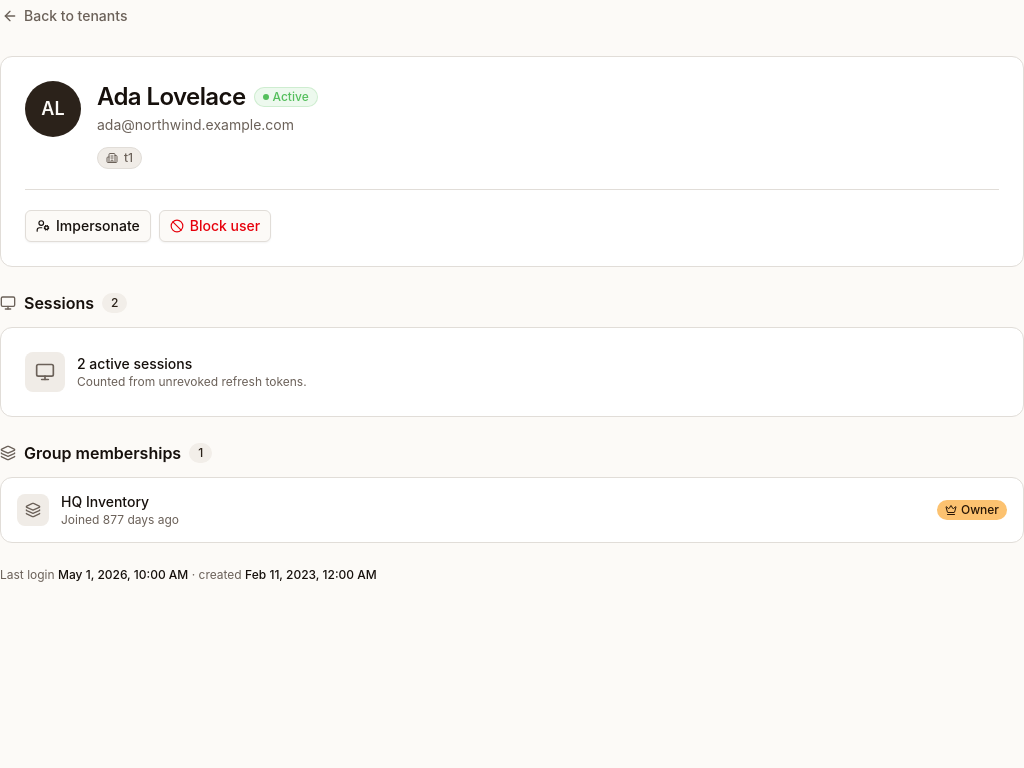
Test: AdminUserDetailPage › blocks a user: optimistic badge flip, success toast, dialog closes
Click the button with test id "admin-user-block" at [215, 226], box [159,210,271,242]
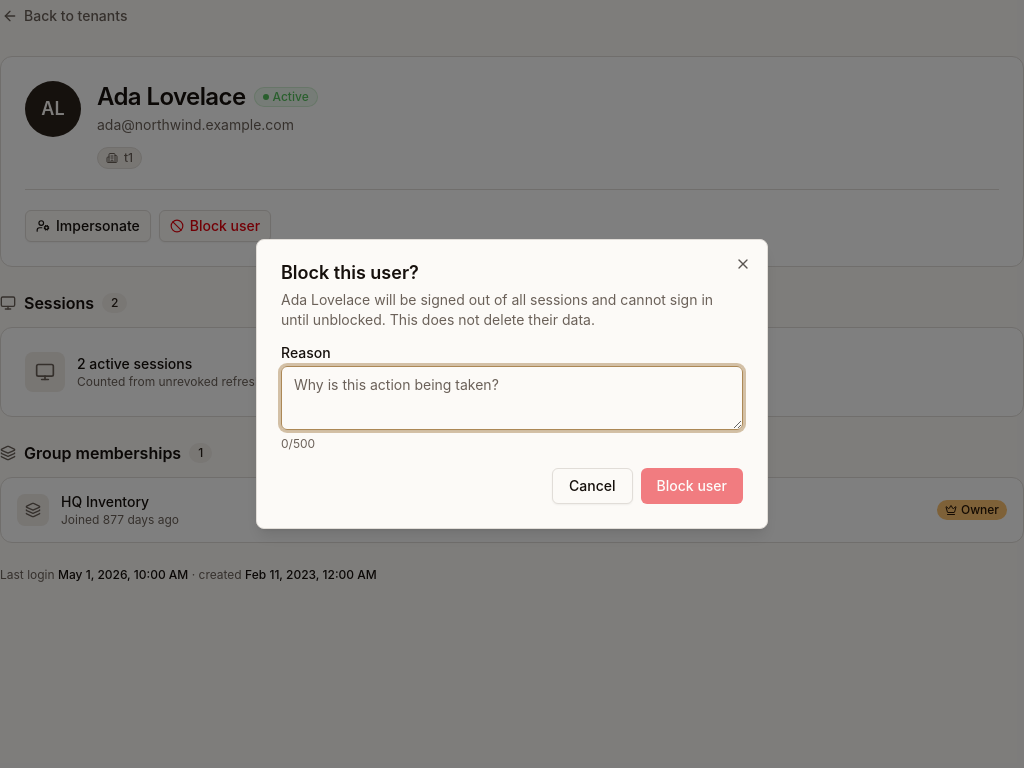
expect the button with test id "admin-user-action-confirm" is disabled: met, box [641,468,743,504]
Type "Policy violation" into the text box with test id "admin-user-action-reason" at [512, 398], box [281,366,743,430]
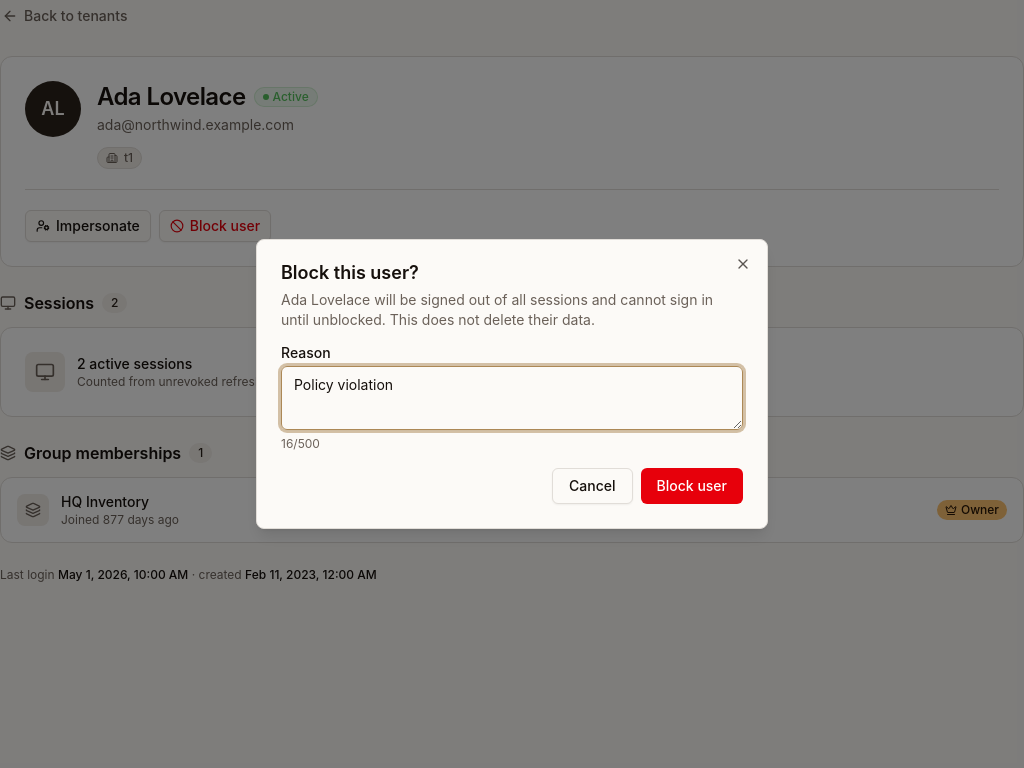
expect the button with test id "admin-user-action-confirm" is enabled: met
Click the button with test id "admin-user-action-confirm" at [692, 486], box [641,468,743,504]
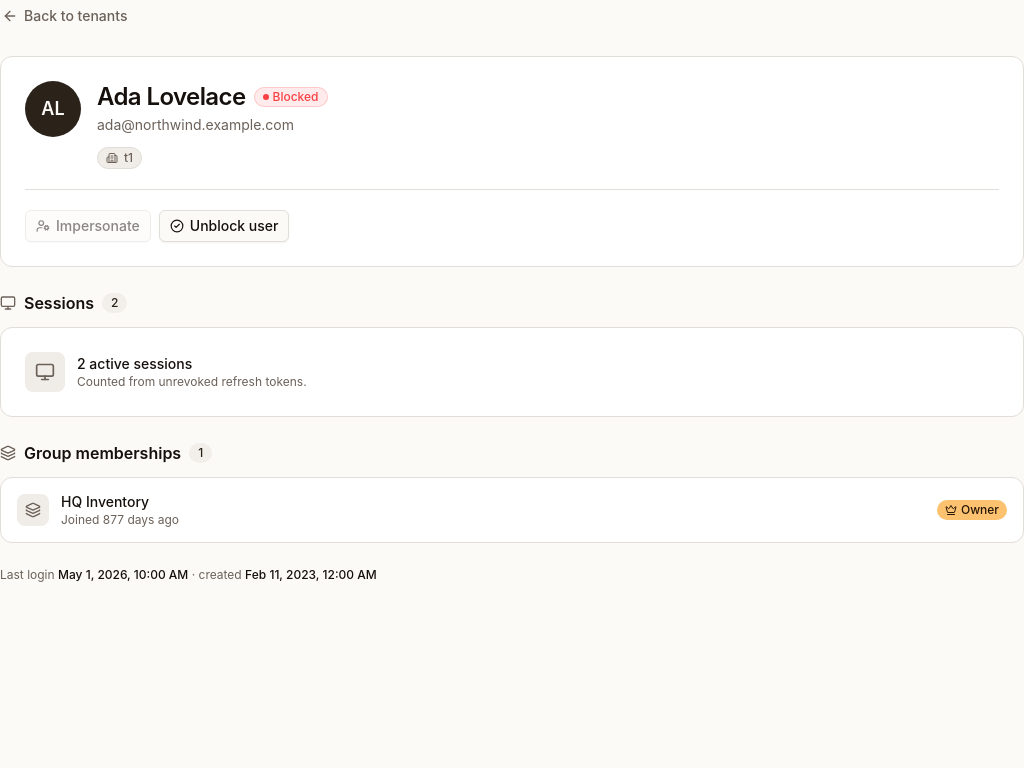
expect the dialog with test id "admin-user-action-dialog" is gone: met
expect the text "Blocked" is shown: met, box [254,87,328,107]
